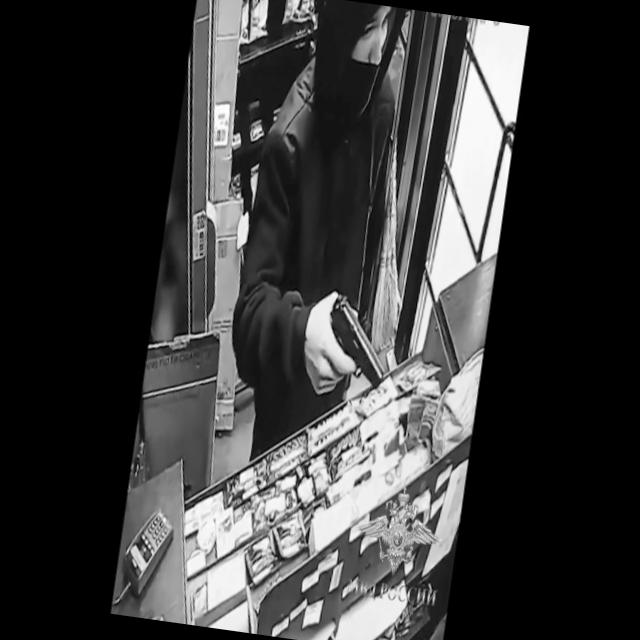gun: (304, 273, 398, 404)
person with a gun: (214, 0, 437, 488)
